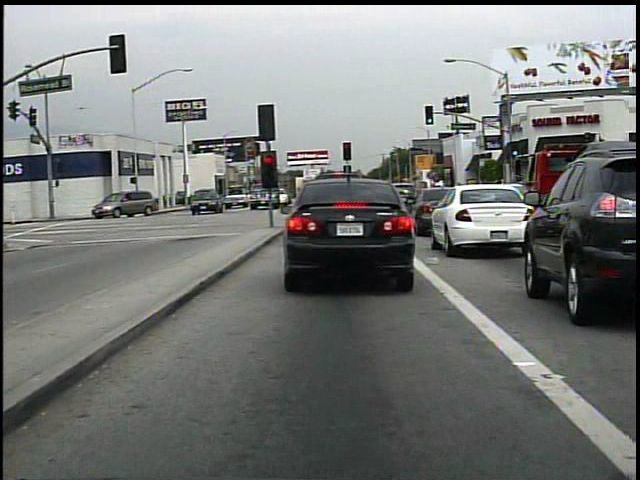person: (199, 184, 220, 210)
